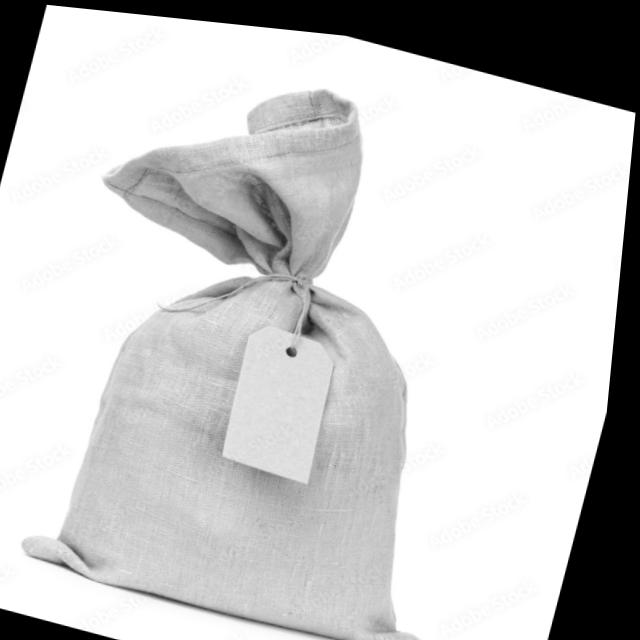sack: (10, 28, 564, 640)
